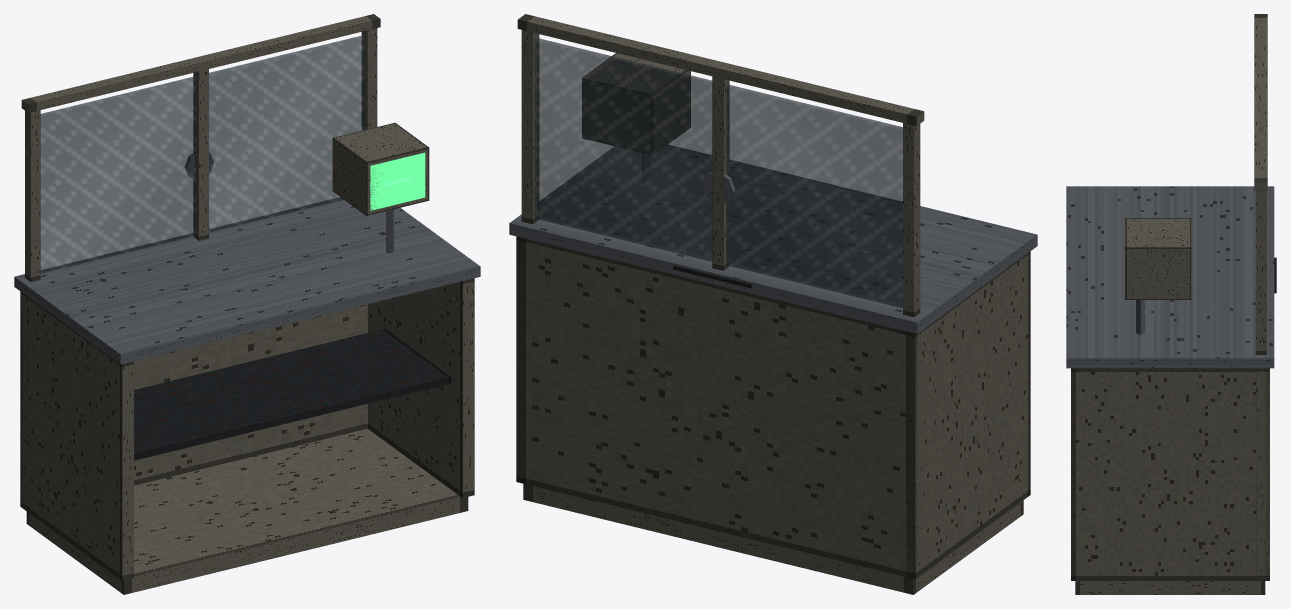
Rendered from security_desk_habitation_worn.glb.
3 renders of one model, left to right at view 1: azimuth 30°, elevation 25°; view 2: azimuth 150°, elevation 25°; view 3: azimuth 270°, elevation 25°, orthographic. The views are drawn at different scales.
Parts seen in each view (by area): view 1: security_desk_habitation_worn; view 2: security_desk_habitation_worn; view 3: security_desk_habitation_worn.
Boxes of the visible parts, <box> form: security_desk_habitation_worn: <box>14,14,480,594</box>; security_desk_habitation_worn: <box>509,14,1037,594</box>; security_desk_habitation_worn: <box>1066,14,1276,594</box>.
Size of the model in its own units: 1.84 by 2.07 by 0.95.
6 materials, 6 textured.
